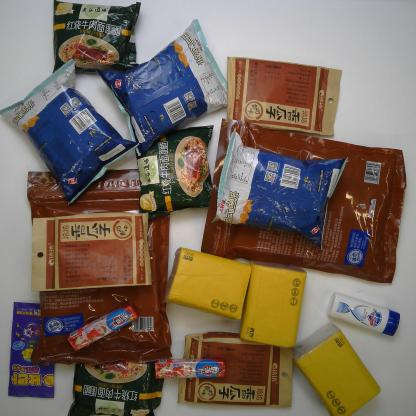Candy: (7, 301, 55, 399), (66, 304, 140, 352), (154, 356, 226, 379)
Dried Food: (200, 118, 408, 284), (26, 168, 174, 367), (30, 210, 152, 292), (226, 56, 343, 138), (177, 331, 292, 409)
Instant Noodles: (134, 124, 214, 220), (51, 0, 142, 75), (68, 354, 164, 416)
Personal Hygiene: (327, 291, 401, 337)
Puffed Food: (0, 58, 141, 206), (96, 17, 234, 157), (210, 131, 349, 250)
Tissue: (291, 322, 381, 416), (163, 246, 252, 320), (240, 260, 308, 348)
